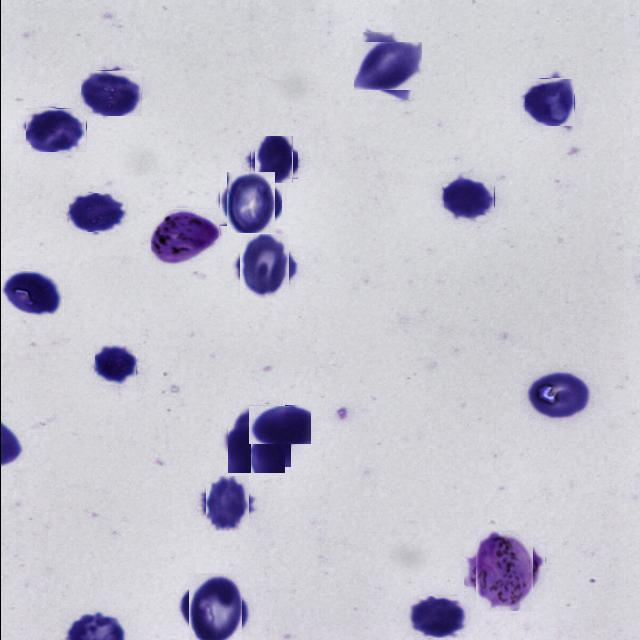gametocyte: (469, 536, 538, 606), (150, 208, 219, 266)
red blood cell: (223, 406, 287, 471), (184, 577, 247, 640), (358, 36, 416, 96), (526, 368, 590, 421), (235, 238, 292, 296), (222, 174, 278, 230), (1, 270, 63, 318), (80, 70, 141, 116), (25, 108, 86, 152), (443, 172, 494, 222), (248, 405, 311, 444), (202, 479, 252, 528), (524, 78, 574, 126), (408, 596, 465, 638), (68, 194, 125, 234), (252, 138, 295, 181), (94, 344, 136, 385)
